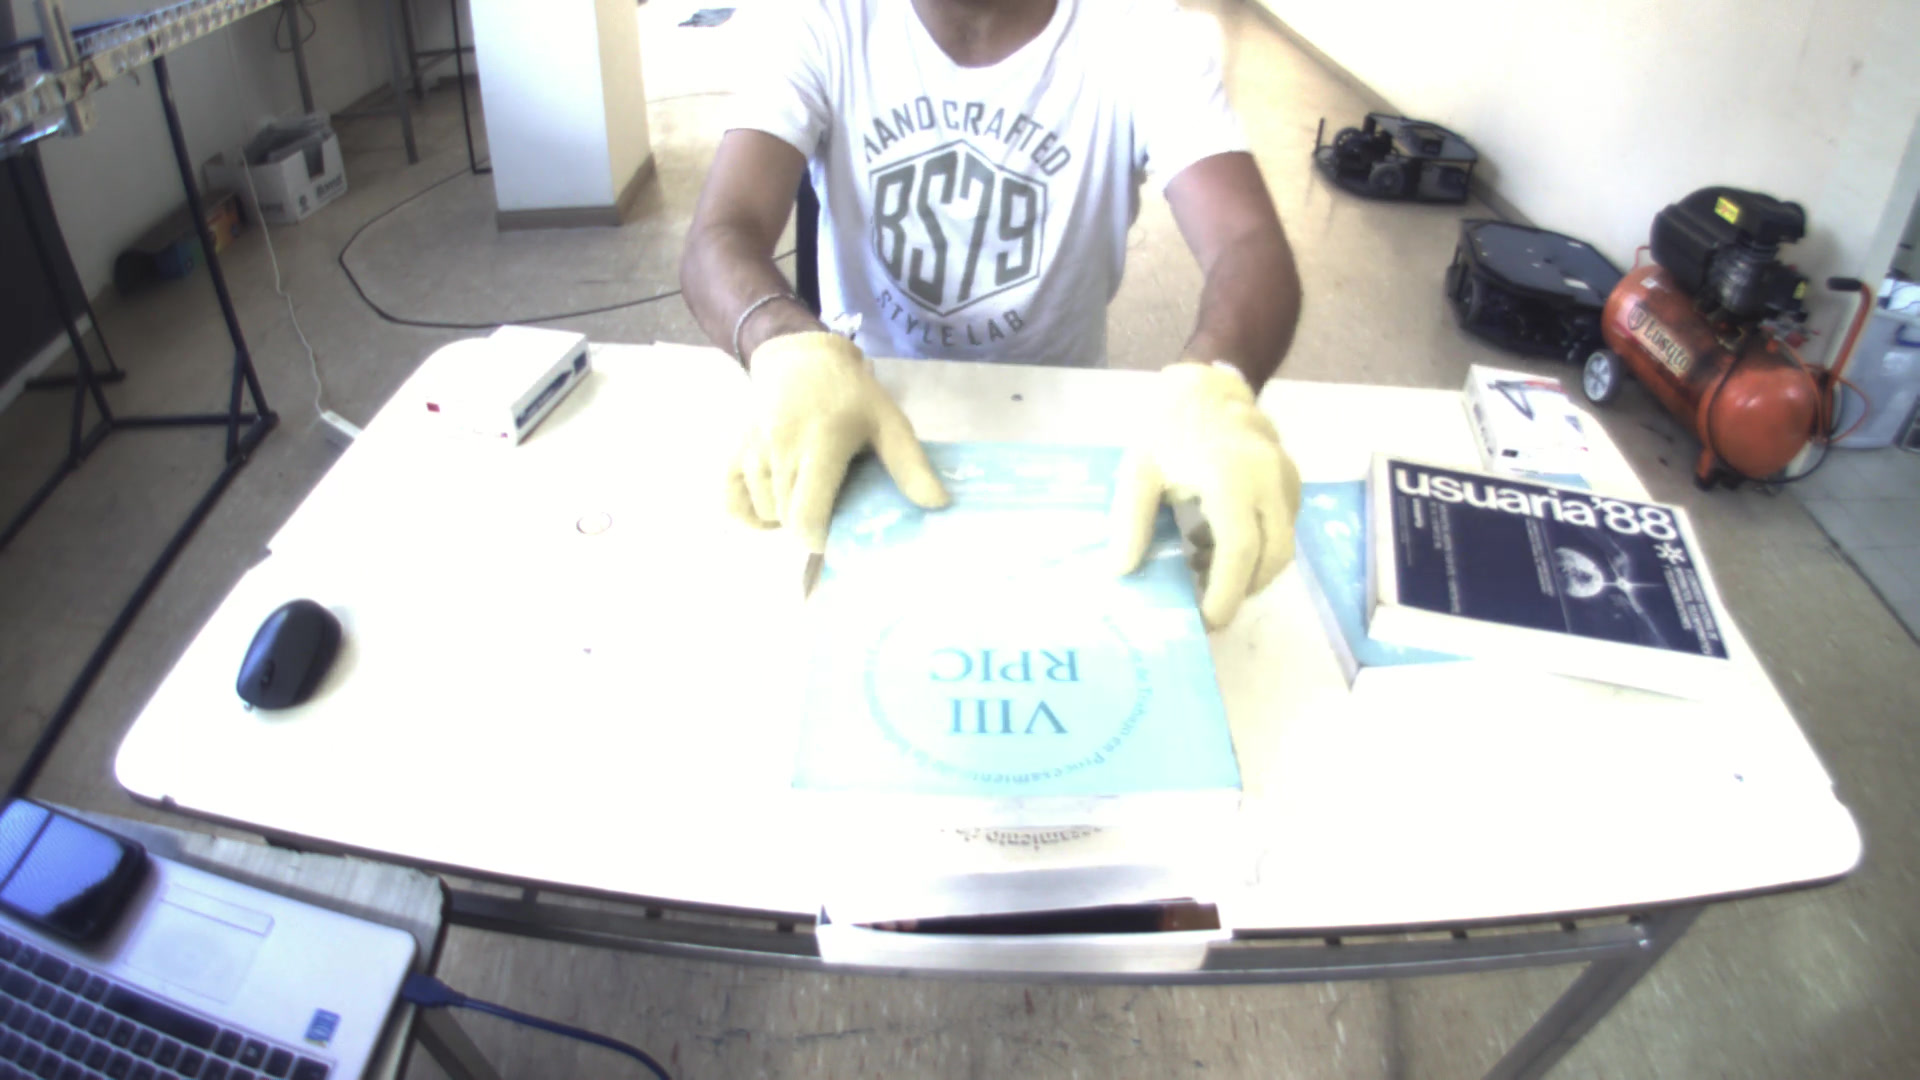hand: (711, 309, 953, 603), (1137, 353, 1317, 638)
